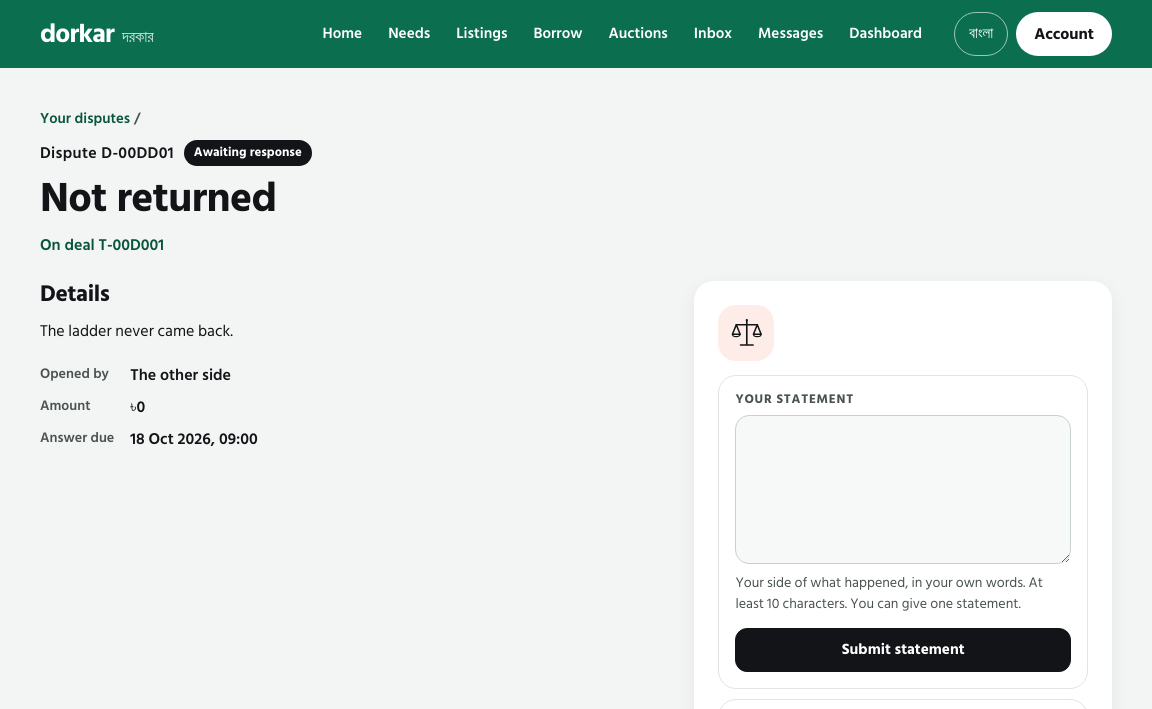
Test case: disputes › lets the respondent give a statement
The width and height of the screenshot is (1152, 709).
Expected: the heading "Not returned" is shown, [40,165,276,232]
Expected: the text "The other side" is shown, [130,362,231,388]
In the text box labelled "Your statement": coordinates (903, 490) [736,416,1070,563], type "I returned it on Friday at the gate."
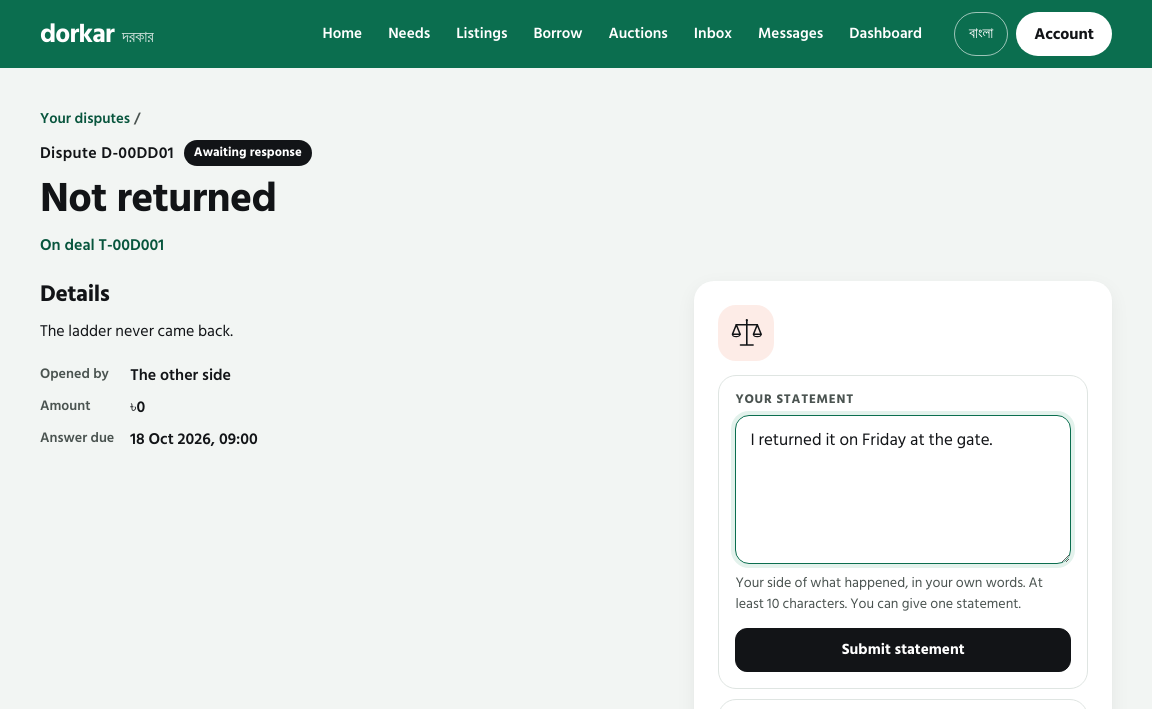
Click the button "Submit statement": coordinates (903, 650) [735,628,1071,672]
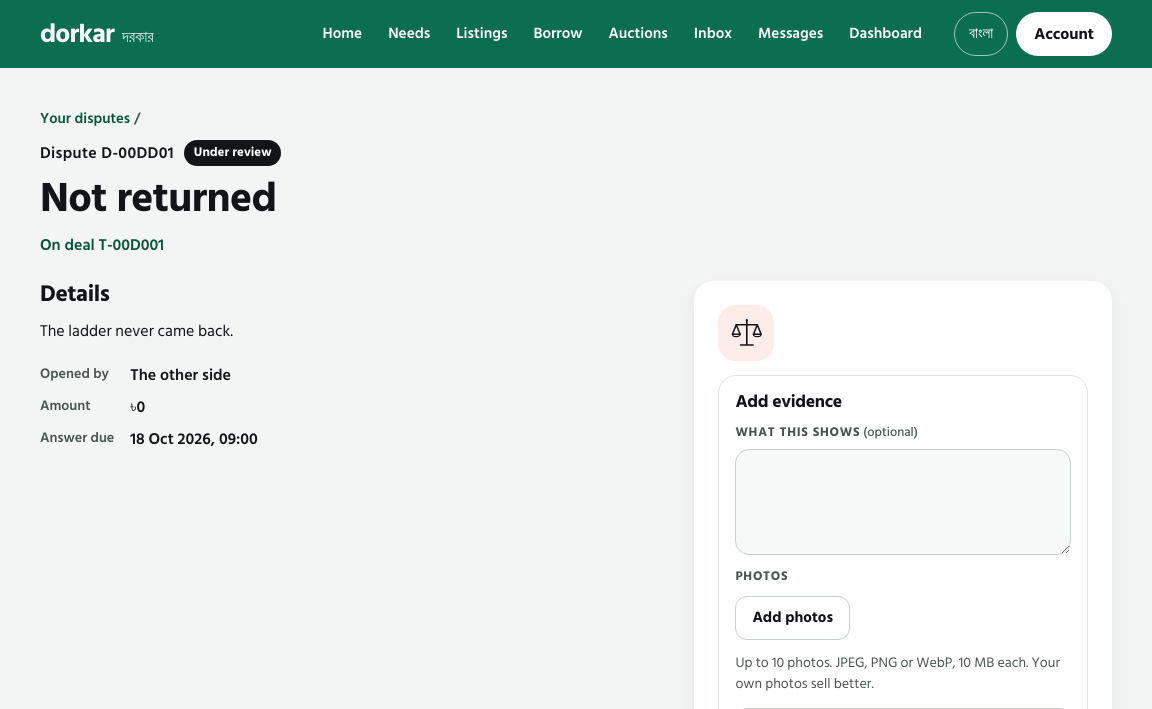
Expected: the text "Under review" is shown, [184,140,281,166]
Expected: the label labelled "Your statement" is gone
